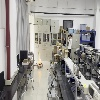fire: (37, 51, 41, 65)
